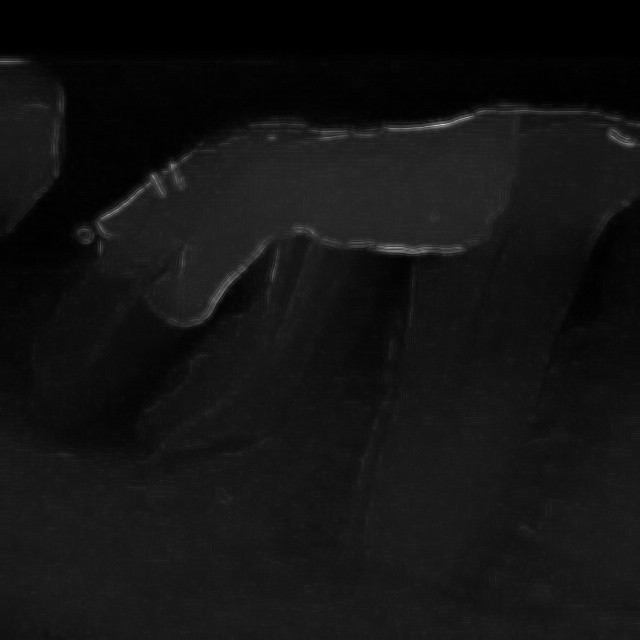Class 2- incomplete endodontic treatment: (24, 53, 508, 504)
